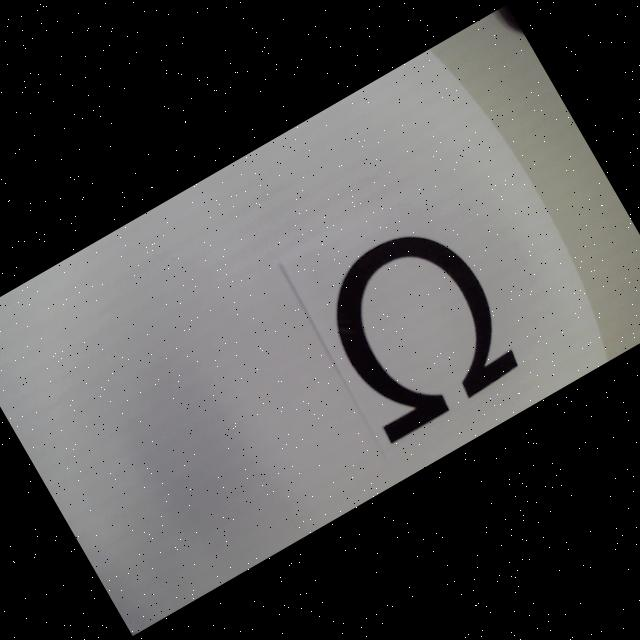OMEGA: (302, 210, 529, 445)
